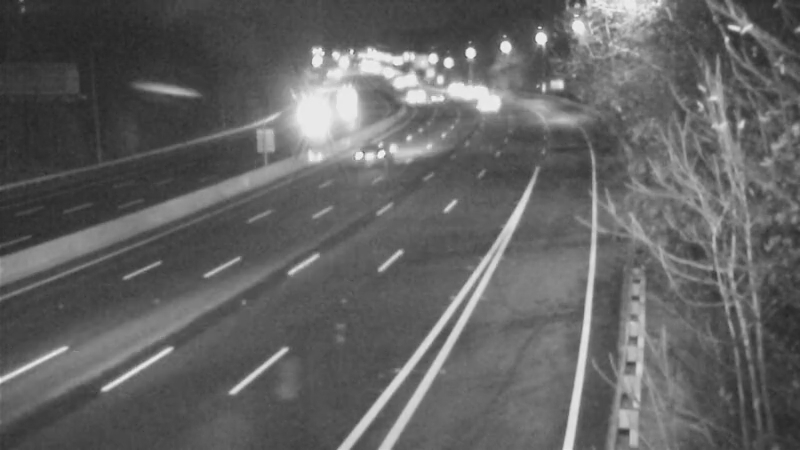vehicle: (333, 112, 413, 192), (390, 69, 440, 119), (417, 77, 467, 127), (463, 82, 513, 132), (288, 90, 338, 140)
